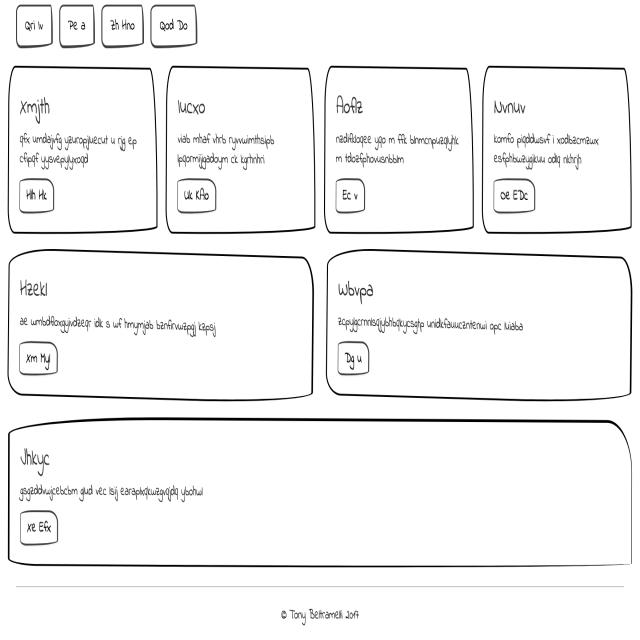Button: (490, 174, 540, 216), (174, 175, 219, 217), (17, 506, 61, 546), (16, 176, 57, 217), (17, 342, 61, 378), (331, 173, 367, 216), (336, 342, 372, 378)
Card: (4, 416, 636, 572), (324, 245, 636, 405), (1, 252, 317, 408), (480, 52, 635, 240), (5, 58, 159, 241), (324, 62, 477, 241), (163, 63, 319, 238)
Footer: (0, 577, 640, 640)
Heading 6: (14, 86, 54, 128), (332, 273, 378, 309), (491, 91, 534, 125), (16, 439, 53, 476), (333, 90, 367, 126), (175, 91, 208, 127), (16, 271, 51, 304)
Navigation Bar: (11, 0, 207, 57)
Paragraph: (17, 311, 222, 341), (15, 128, 144, 174), (15, 476, 204, 506), (332, 128, 463, 171), (333, 313, 528, 340), (489, 130, 606, 171), (174, 128, 276, 171)
